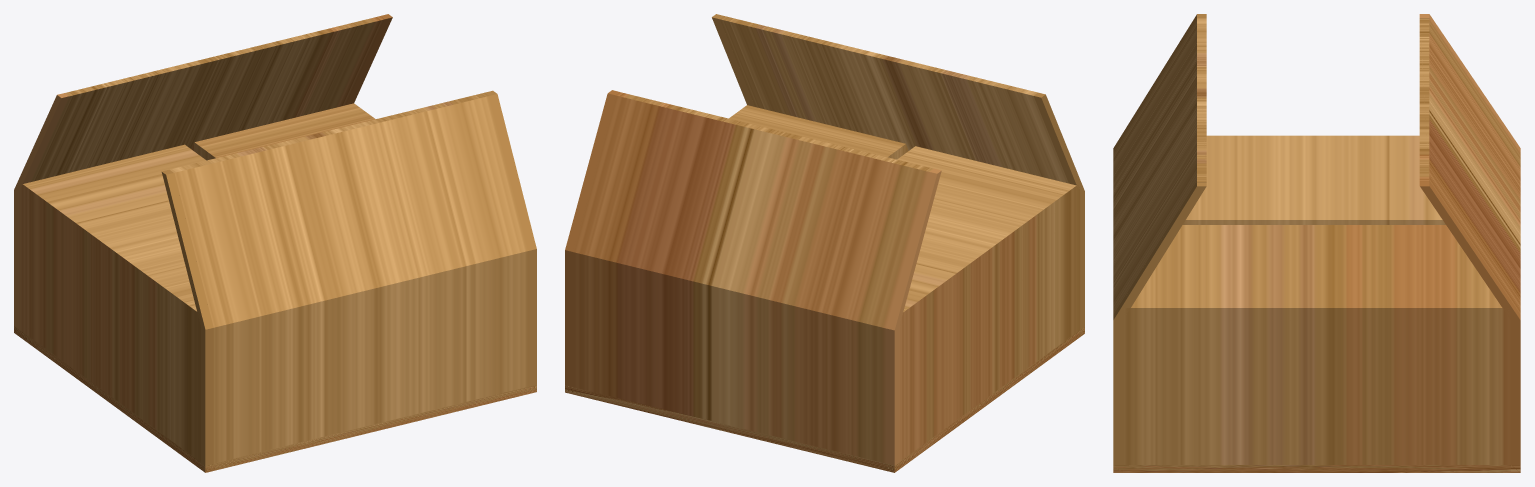
The picture shows the model from 3 angles, left to right: view 1: azimuth 30°, elevation 25°; view 2: azimuth 150°, elevation 25°; view 3: azimuth 270°, elevation 25°; orthographic projection. The views are drawn at different scales.
Visible parts, largest first — view 1: Куб; view 2: Куб; view 3: Куб.
Part boxes in pixels (x1,y1,x2,y2): Куб: (14,14,536,472); Куб: (565,14,1084,472); Куб: (1113,14,1520,472).
Bounding box in the file's own units: 2.1 × 1.63 × 2.1.
Materials: 1 (1 with a texture image).
